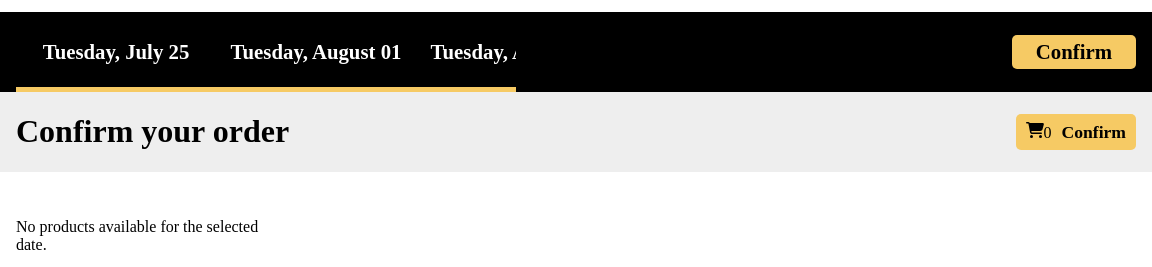
Test case: Deliveries page › should have the Reschedule copy in subheader when is a holiday delivery
Click the button "Tuesday, August 01": (316, 52) [216,12,416,92]
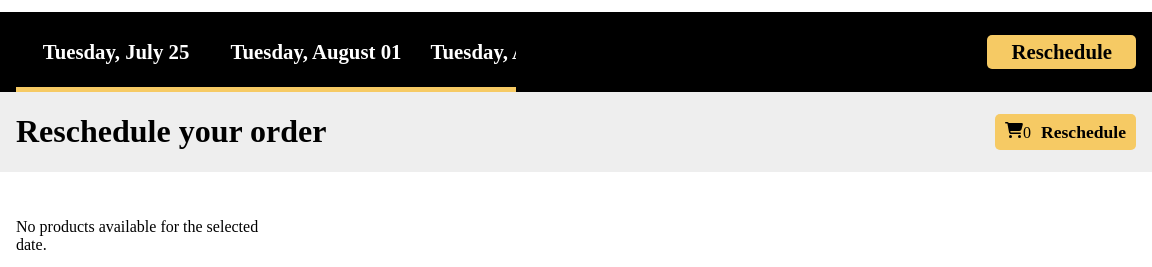
Now the heading with test id "subheader-title" reads "Reschedule your order", box [16,113,327,150]
